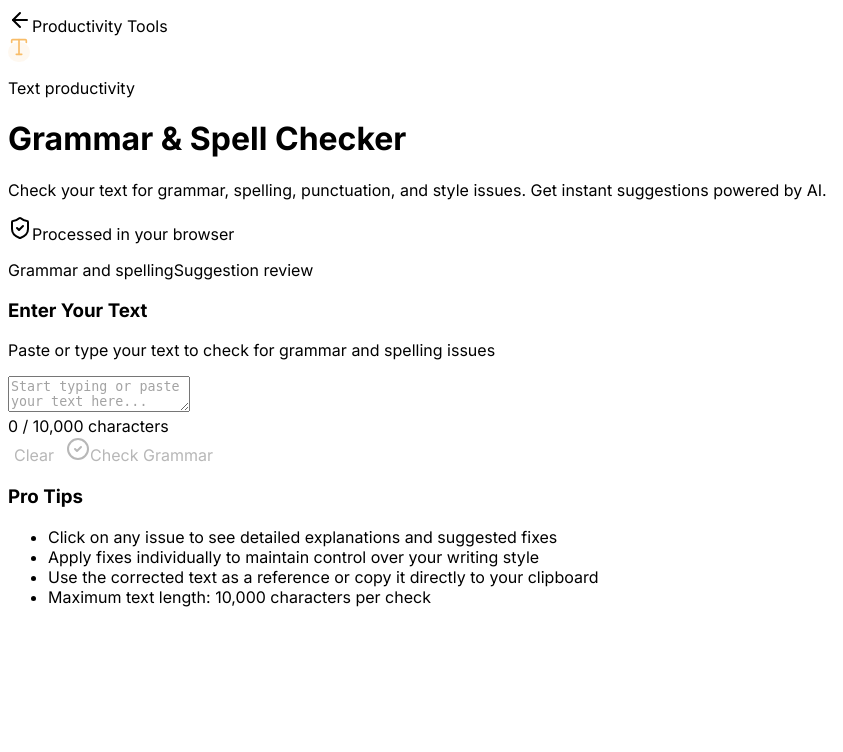
Test: Grammar Checker Page › Grammar Check › displays success message when no issues found
Type "Perfect text" into the text box with placeholder "Start typing or paste your text here..." at [99, 394], box 8,376 -> 190,412
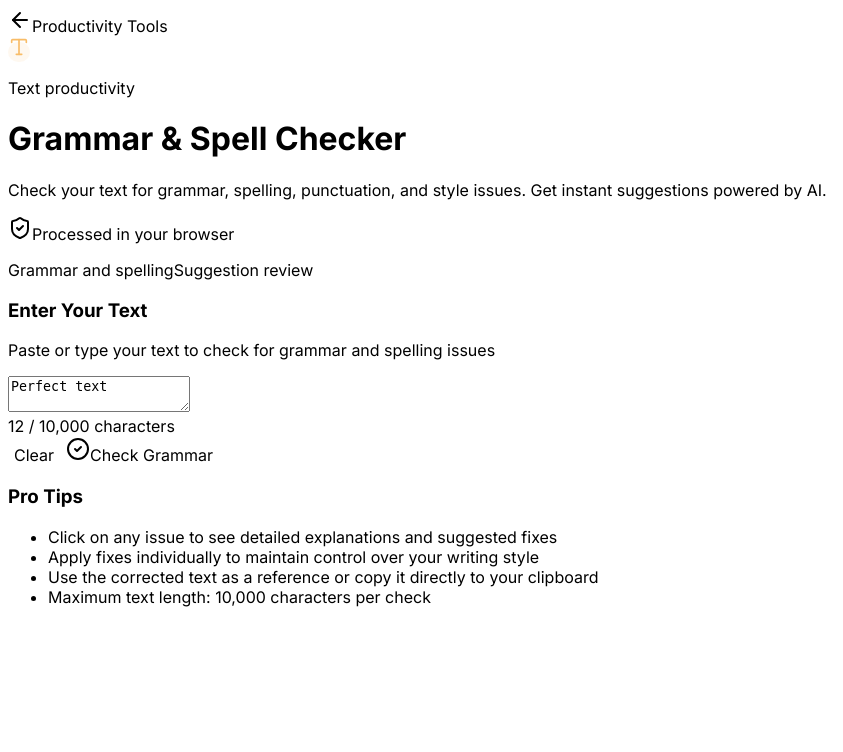
Click the button "Check Grammar" at [140, 451], box 60,436 -> 219,466
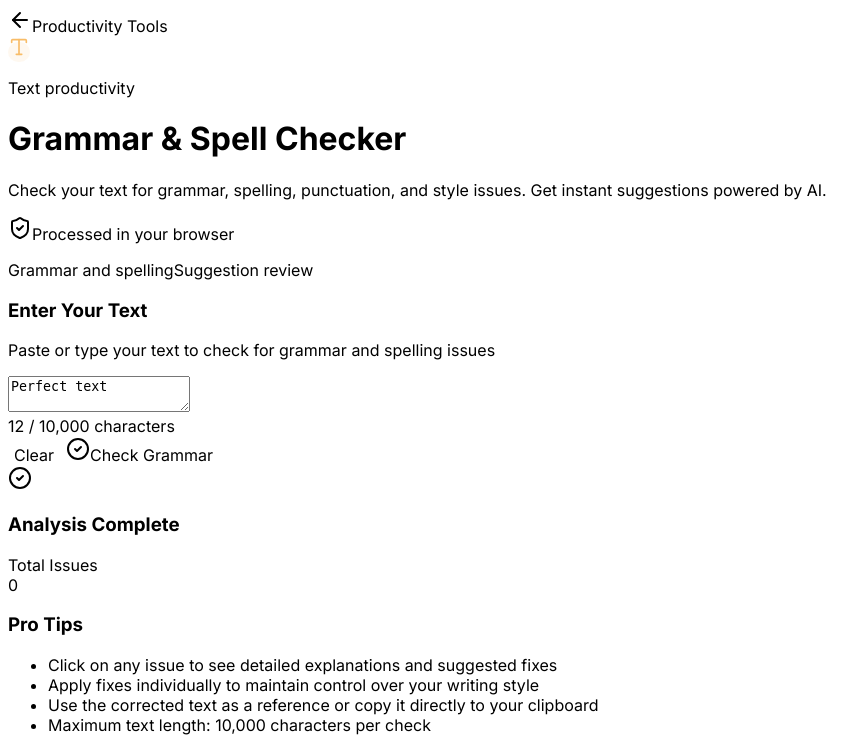
Now the heading "Analysis Complete" is shown, box 8,513 -> 180,536
Now the text "0" is shown, box 8,575 -> 18,595
